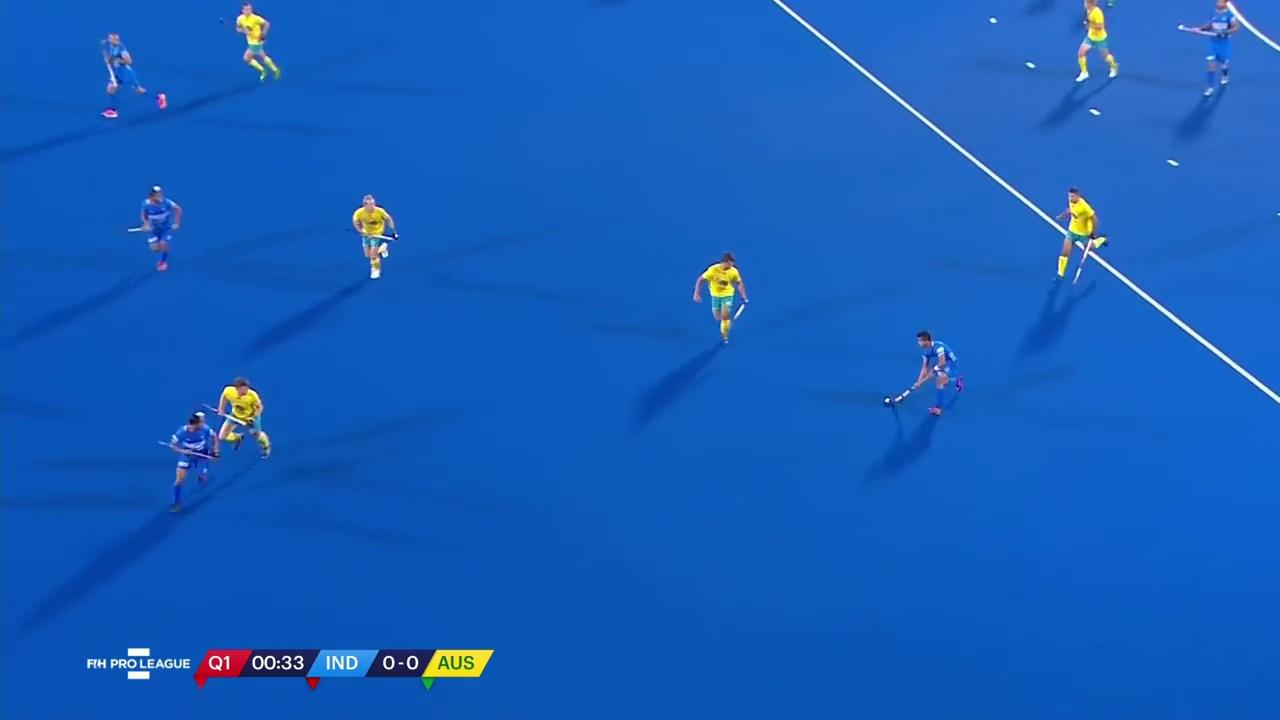ball: (879, 389, 903, 411)
